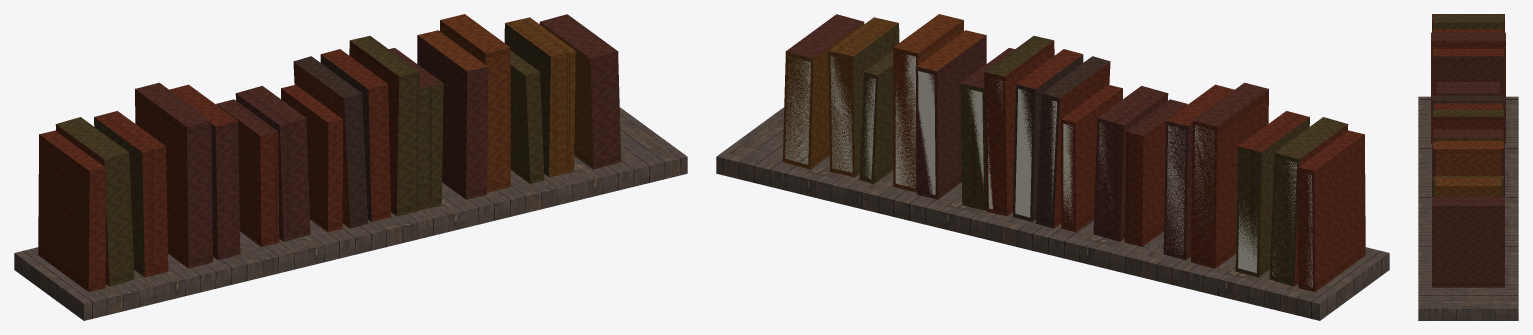
Rendered from shelfrow.glb.
3 renders of one model, left to right at view 1: azimuth 30°, elevation 25°; view 2: azimuth 150°, elevation 25°; view 3: azimuth 270°, elevation 25°, orthographic. The views are drawn at different scales.
Visible parts, largest first — view 1: shelfrow; view 2: shelfrow; view 3: shelfrow.
Boxes of the visible parts, x1,y1,x2,y2 form: shelfrow: (14,14,687,320); shelfrow: (716,14,1389,320); shelfrow: (1418,14,1518,320).
Size of the model in its own units: 1.3 by 0.3305 by 0.26.
Materials: 3 (2 with a texture image).
